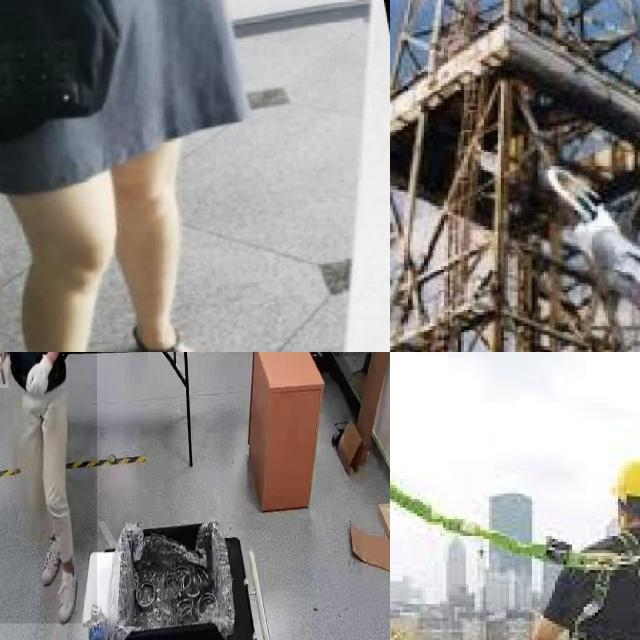Harness: (543, 521, 640, 640)
Sandals: (125, 297, 264, 352)
hand_glove: (22, 352, 58, 408), (0, 352, 8, 387)
person: (0, 352, 97, 624)
shoes: (54, 558, 80, 626), (39, 519, 63, 586)
